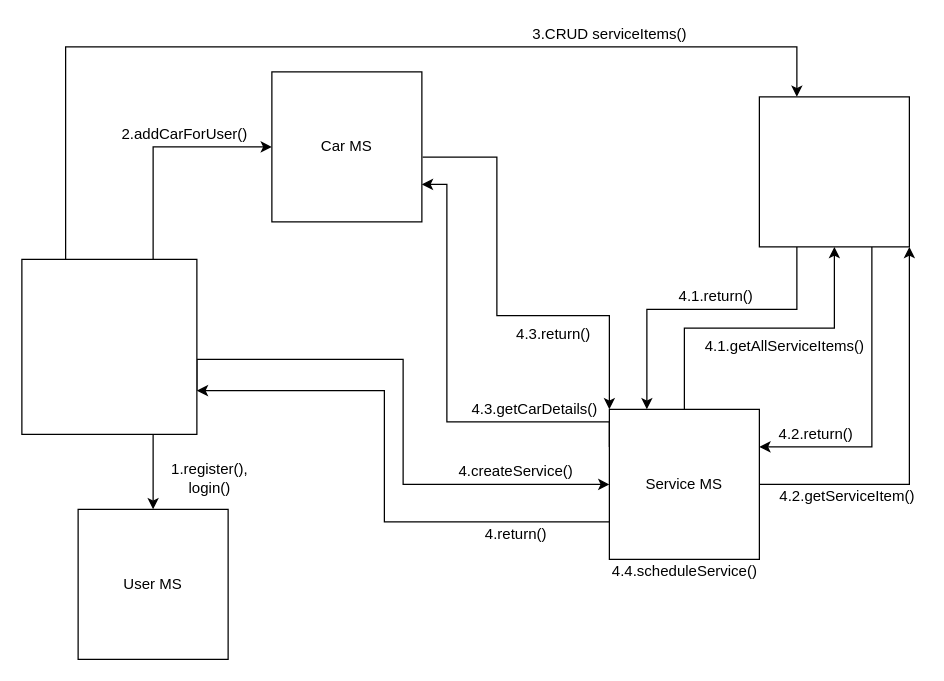
The diagram is 944 pixels wide and 681 high, and some of its shapes have lost their labels. Here are the shapes that lost their labels. From the top down, the centre of each, then its label:
At pixel 833 171: "ServiceItem MS".
At pixel 109 346: "Caller (Swagger/Postman)".
